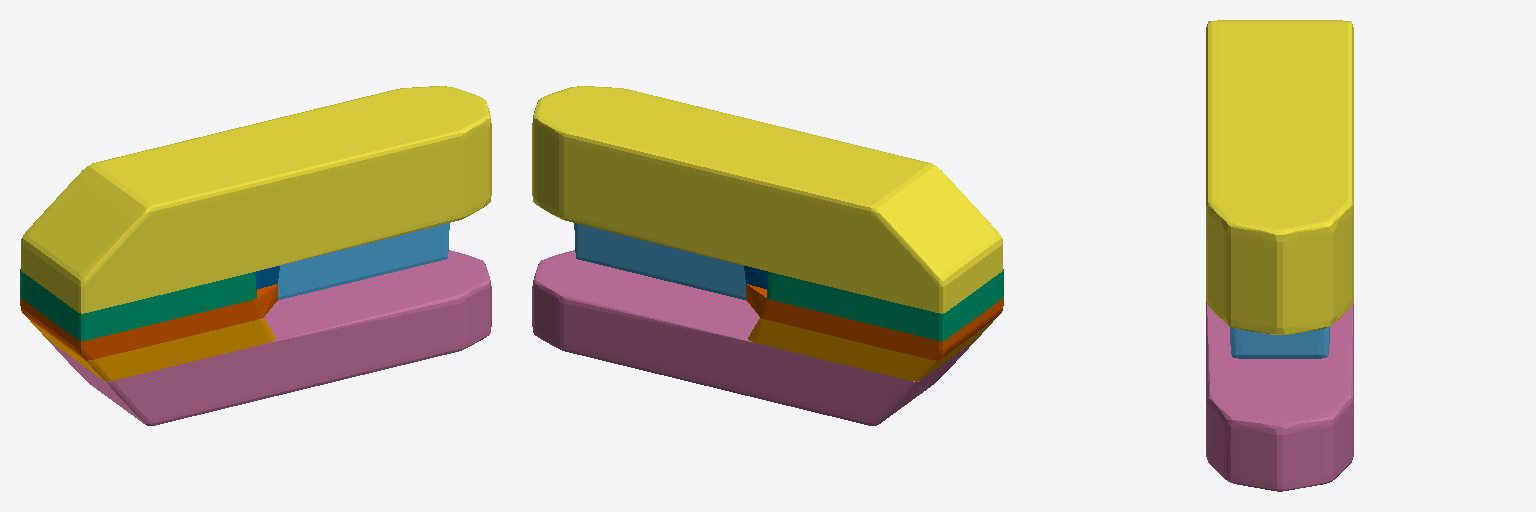
robot.urdf — root:
<robot name="root">
  <link name="link_convex_piece_004.obj">
    <inertial>
      <origin xyz="0 0 0" rpy="0 0 0"/>
    </inertial>
    <visual>
      <origin xyz="0 0 0" rpy="0 0 0"/>
      <geometry>
        <mesh filename="meshes/convex_piece_004.obj" scale="1.0 1.0 1.0"/>
      </geometry>
    </visual>
    <collision>
      <origin xyz="0 0 0" rpy="0 0 0"/>
      <geometry>
        <mesh filename="meshes/convex_piece_004.obj" scale="1.0 1.0 1.0"/>
      </geometry>
    </collision>
  </link>
  <link name="link_convex_piece_001.obj">
    <inertial>
      <origin xyz="0 0 0" rpy="0 0 0"/>
    </inertial>
    <visual>
      <origin xyz="0 0 0" rpy="0 0 0"/>
      <geometry>
        <mesh filename="meshes/convex_piece_001.obj" scale="1.0 1.0 1.0"/>
      </geometry>
    </visual>
    <collision>
      <origin xyz="0 0 0" rpy="0 0 0"/>
      <geometry>
        <mesh filename="meshes/convex_piece_001.obj" scale="1.0 1.0 1.0"/>
      </geometry>
    </collision>
  </link>
  <joint name="link_convex_piece_001.obj_joint" type="fixed">
    <origin xyz="0 0 0" rpy="0 0 0"/>
    <parent link="link_convex_piece_004.obj"/>
    <child link="link_convex_piece_001.obj"/>
  </joint>
  <link name="link_convex_piece_005.obj">
    <inertial>
      <origin xyz="0 0 0" rpy="0 0 0"/>
    </inertial>
    <visual>
      <origin xyz="0 0 0" rpy="0 0 0"/>
      <geometry>
        <mesh filename="meshes/convex_piece_005.obj" scale="1.0 1.0 1.0"/>
      </geometry>
    </visual>
    <collision>
      <origin xyz="0 0 0" rpy="0 0 0"/>
      <geometry>
        <mesh filename="meshes/convex_piece_005.obj" scale="1.0 1.0 1.0"/>
      </geometry>
    </collision>
  </link>
  <joint name="link_convex_piece_005.obj_joint" type="fixed">
    <origin xyz="0 0 0" rpy="0 0 0"/>
    <parent link="link_convex_piece_001.obj"/>
    <child link="link_convex_piece_005.obj"/>
  </joint>
  <link name="link_convex_piece_002.obj">
    <inertial>
      <origin xyz="0 0 0" rpy="0 0 0"/>
    </inertial>
    <visual>
      <origin xyz="0 0 0" rpy="0 0 0"/>
      <geometry>
        <mesh filename="meshes/convex_piece_002.obj" scale="1.0 1.0 1.0"/>
      </geometry>
    </visual>
    <collision>
      <origin xyz="0 0 0" rpy="0 0 0"/>
      <geometry>
        <mesh filename="meshes/convex_piece_002.obj" scale="1.0 1.0 1.0"/>
      </geometry>
    </collision>
  </link>
  <joint name="link_convex_piece_002.obj_joint" type="fixed">
    <origin xyz="0 0 0" rpy="0 0 0"/>
    <parent link="link_convex_piece_005.obj"/>
    <child link="link_convex_piece_002.obj"/>
  </joint>
  <link name="link_convex_piece_006.obj">
    <inertial>
      <origin xyz="0 0 0" rpy="0 0 0"/>
    </inertial>
    <visual>
      <origin xyz="0 0 0" rpy="0 0 0"/>
      <geometry>
        <mesh filename="meshes/convex_piece_006.obj" scale="1.0 1.0 1.0"/>
      </geometry>
    </visual>
    <collision>
      <origin xyz="0 0 0" rpy="0 0 0"/>
      <geometry>
        <mesh filename="meshes/convex_piece_006.obj" scale="1.0 1.0 1.0"/>
      </geometry>
    </collision>
  </link>
  <joint name="link_convex_piece_006.obj_joint" type="fixed">
    <origin xyz="0 0 0" rpy="0 0 0"/>
    <parent link="link_convex_piece_002.obj"/>
    <child link="link_convex_piece_006.obj"/>
  </joint>
  <link name="link_convex_piece_003.obj">
    <inertial>
      <origin xyz="0 0 0" rpy="0 0 0"/>
    </inertial>
    <visual>
      <origin xyz="0 0 0" rpy="0 0 0"/>
      <geometry>
        <mesh filename="meshes/convex_piece_003.obj" scale="1.0 1.0 1.0"/>
      </geometry>
    </visual>
    <collision>
      <origin xyz="0 0 0" rpy="0 0 0"/>
      <geometry>
        <mesh filename="meshes/convex_piece_003.obj" scale="1.0 1.0 1.0"/>
      </geometry>
    </collision>
  </link>
  <joint name="link_convex_piece_003.obj_joint" type="fixed">
    <origin xyz="0 0 0" rpy="0 0 0"/>
    <parent link="link_convex_piece_006.obj"/>
    <child link="link_convex_piece_003.obj"/>
  </joint>
  <link name="link_convex_piece_000.obj">
    <inertial>
      <origin xyz="0 0 0" rpy="0 0 0"/>
    </inertial>
    <visual>
      <origin xyz="0 0 0" rpy="0 0 0"/>
      <geometry>
        <mesh filename="meshes/convex_piece_000.obj" scale="1.0 1.0 1.0"/>
      </geometry>
    </visual>
    <collision>
      <origin xyz="0 0 0" rpy="0 0 0"/>
      <geometry>
        <mesh filename="meshes/convex_piece_000.obj" scale="1.0 1.0 1.0"/>
      </geometry>
    </collision>
  </link>
  <joint name="link_convex_piece_000.obj_joint" type="fixed">
    <origin xyz="0 0 0" rpy="0 0 0"/>
    <parent link="link_convex_piece_003.obj"/>
    <child link="link_convex_piece_000.obj"/>
  </joint>
</robot>

--- What the picture shows (computed from the rendered views, not written in the file) ---
The picture shows the robot from 3 angles, left to right: view 1: azimuth 30°, elevation 25°; view 2: azimuth 150°, elevation 25°; view 3: azimuth 270°, elevation 25°; orthographic projection.
Robot: root — 7 links, 6 joints (6 fixed); root link link_convex_piece_004.obj; default pose: every joint at zero.
Visible links, largest first — view 1: link_convex_piece_002.obj, link_convex_piece_000.obj, link_convex_piece_005.obj, link_convex_piece_001.obj, link_convex_piece_003.obj, link_convex_piece_004.obj; view 2: link_convex_piece_002.obj, link_convex_piece_000.obj, link_convex_piece_005.obj, link_convex_piece_001.obj, link_convex_piece_003.obj, link_convex_piece_004.obj; view 3: link_convex_piece_002.obj, link_convex_piece_000.obj, link_convex_piece_001.obj.
Link boxes in pixels (left/top/right/bottom): link_convex_piece_002.obj: left=21, top=86, right=491, bottom=313; link_convex_piece_000.obj: left=47, top=250, right=491, bottom=425; link_convex_piece_005.obj: left=20, top=269, right=256, bottom=340; link_convex_piece_001.obj: left=278, top=223, right=449, bottom=299; link_convex_piece_003.obj: left=20, top=284, right=277, bottom=360; link_convex_piece_004.obj: left=30, top=318, right=275, bottom=381; link_convex_piece_002.obj: left=532, top=86, right=1002, bottom=313; link_convex_piece_000.obj: left=532, top=250, right=976, bottom=425; link_convex_piece_005.obj: left=767, top=269, right=1003, bottom=340; link_convex_piece_001.obj: left=574, top=223, right=745, bottom=299; link_convex_piece_003.obj: left=746, top=284, right=1003, bottom=360; link_convex_piece_004.obj: left=748, top=318, right=993, bottom=381; link_convex_piece_002.obj: left=1206, top=20, right=1353, bottom=334; link_convex_piece_000.obj: left=1206, top=301, right=1353, bottom=491; link_convex_piece_001.obj: left=1230, top=326, right=1329, bottom=358.
Size in the robot's own frame: 1.78 by 0.4401 by 0.8608 metres.
Meshes: 7 distinct files referenced, 7 mesh visuals loaded (7 OBJ).
